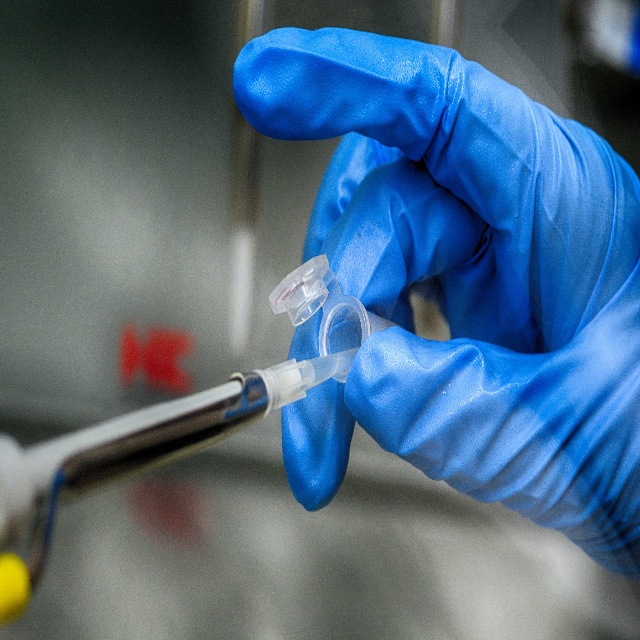Guantes: (219, 17, 640, 589)
